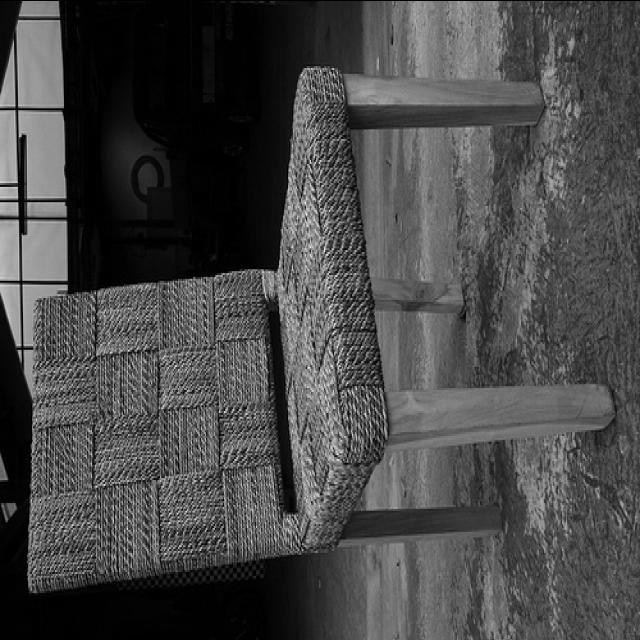chair: (26, 62, 614, 601)
